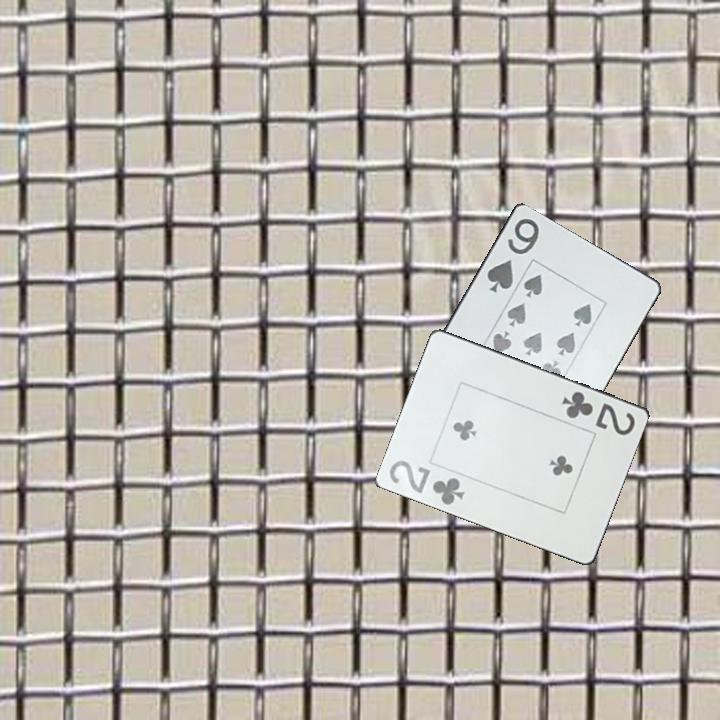2c: (386, 456, 468, 508), (558, 388, 638, 438)
9s: (483, 214, 542, 296)
